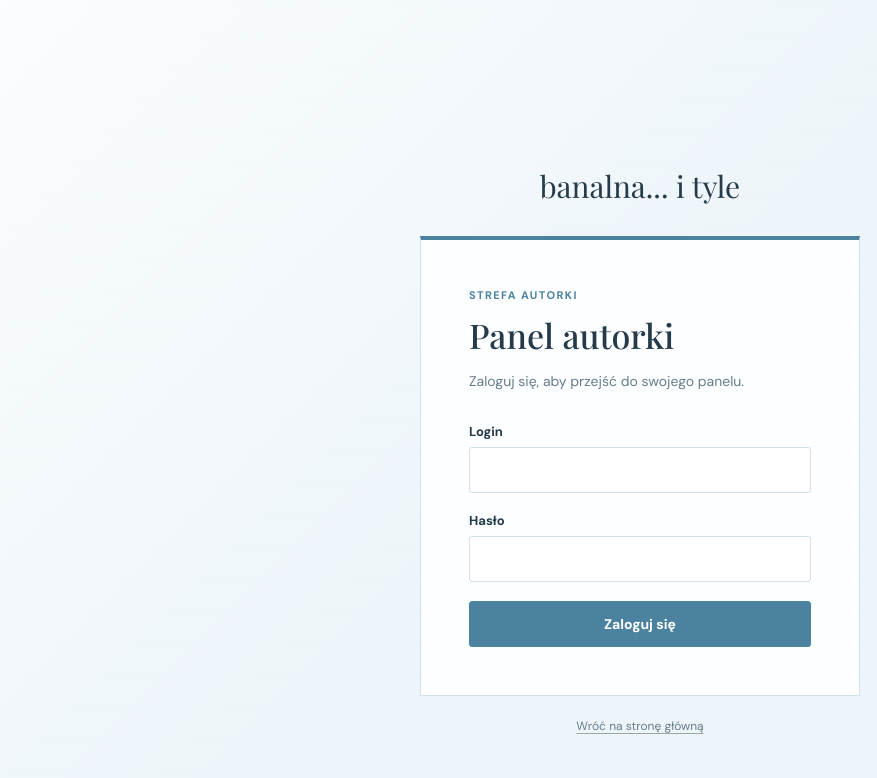
Test: AuthorLogin › displays login failures to the author
In the field labelled "Login": (640, 470) [469,447,811,493], type "autorka"
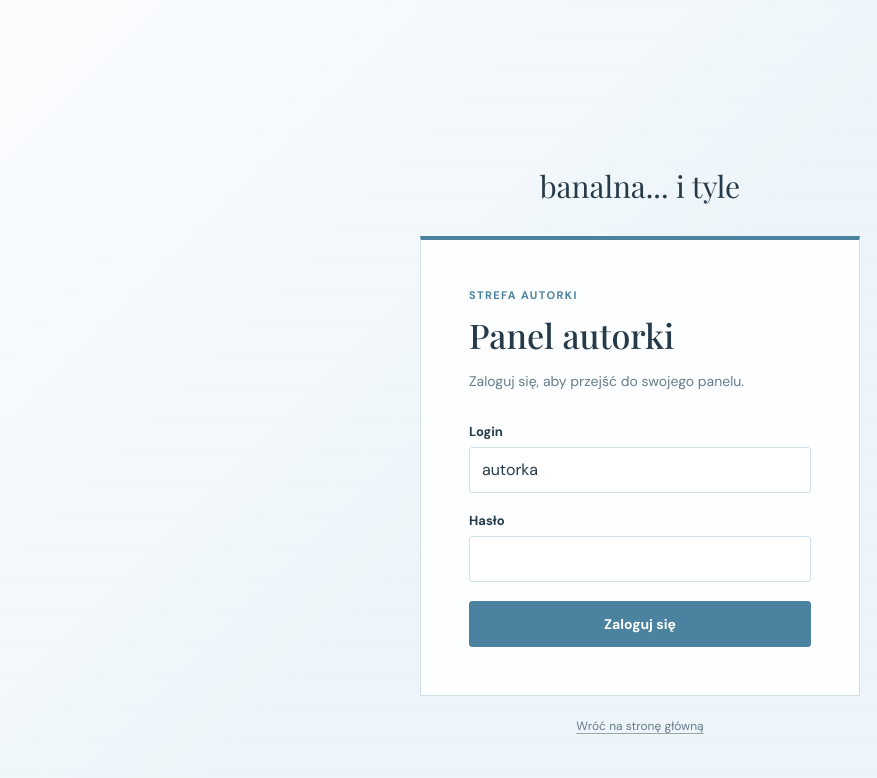
In the password field labelled "Hasło": (640, 559) [469,536,811,582], type "błędne"
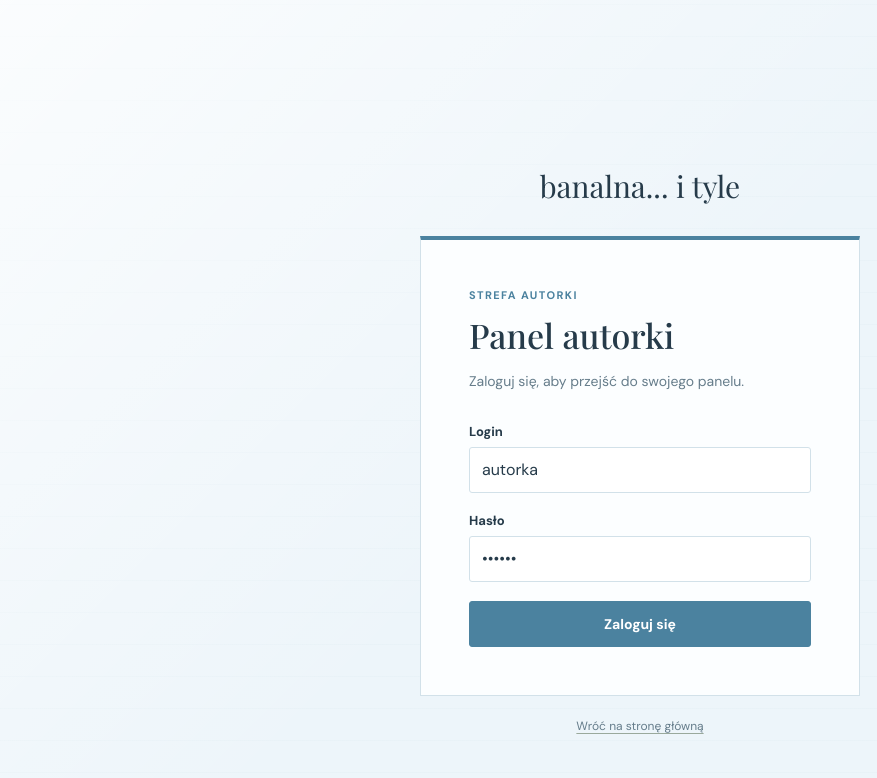
Click the button "Zaloguj się": (640, 624) [469,601,811,647]
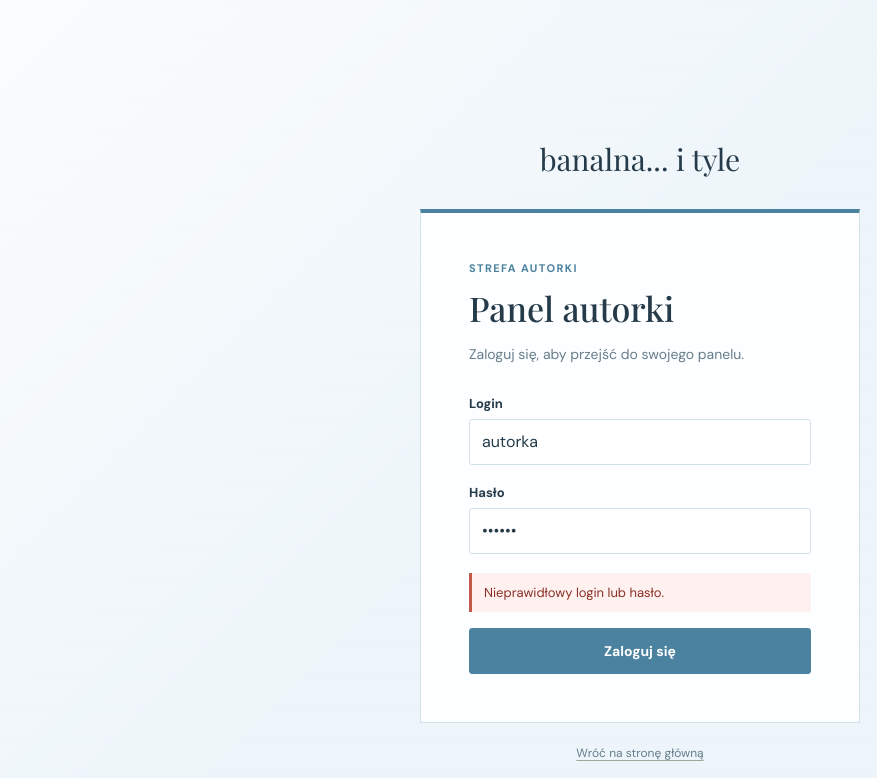
Expected: the message reads "Nieprawidłowy login lub hasło.", [484,584,664,601]
